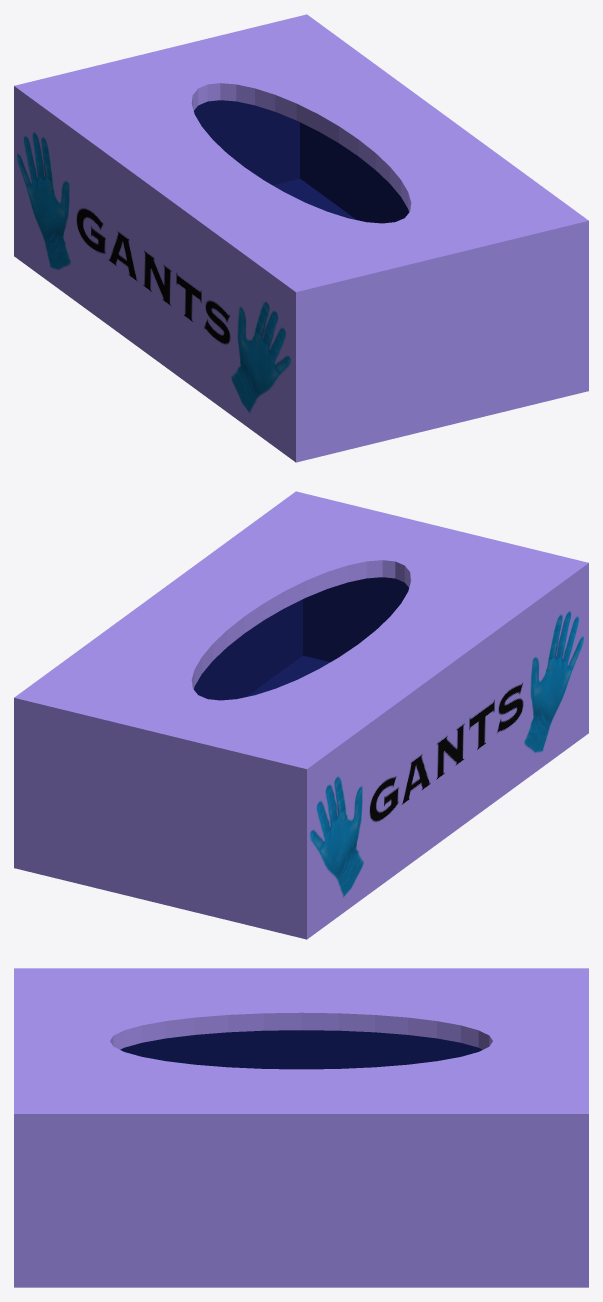
The model's file is gloveBox.fbx.
The picture shows the model from 3 angles, top to bottom: view 1: azimuth 30°, elevation 25°; view 2: azimuth 150°, elevation 25°; view 3: azimuth 270°, elevation 25°; orthographic projection.
Visible parts, largest first — view 1: Cube; view 2: Cube; view 3: Cube.
Part boxes in pixels (x1,y1,x2,y2): Cube: [14, 14, 588, 462]; Cube: [14, 491, 588, 939]; Cube: [14, 968, 588, 1287].
Bounding box in the file's own units: 360 × 200 × 600.
Materials: 3 (2 with a texture image).
